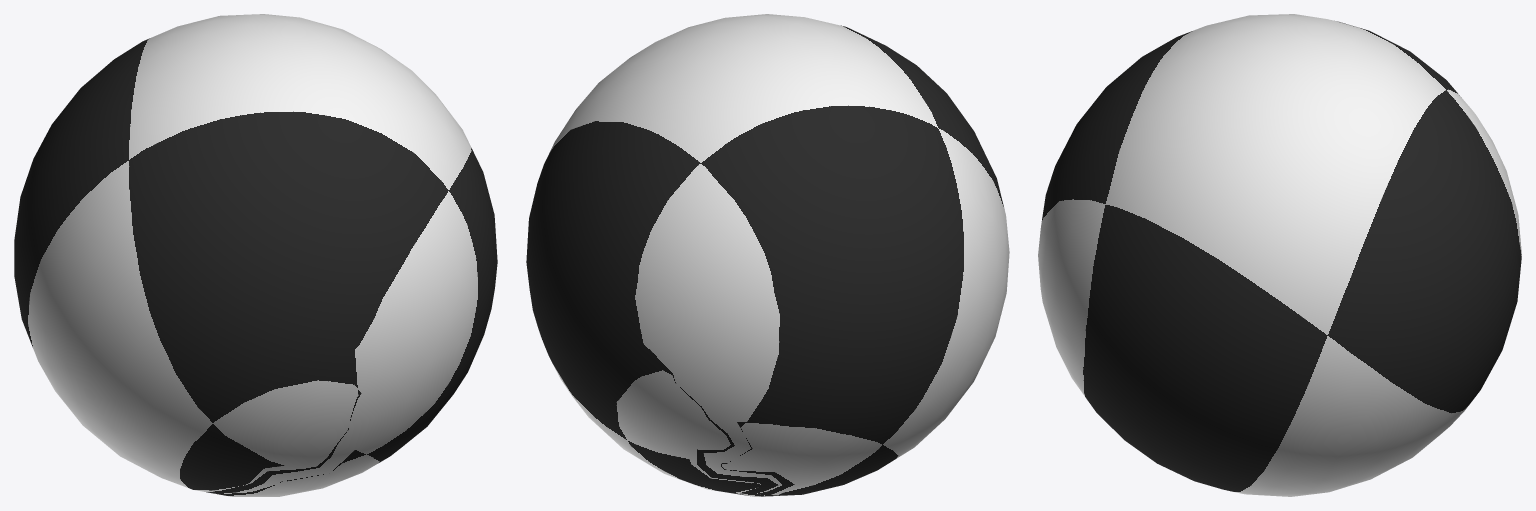
The model's file is sphere_R100mm_cgal_arap_result.glb.
3 renders of one model, left to right at view 1: azimuth 30°, elevation 25°; view 2: azimuth 150°, elevation 25°; view 3: azimuth 270°, elevation 25°, orthographic.
Size of the model in its own units: 200 by 199 by 200.
Materials: 1 (1 with a texture image).
